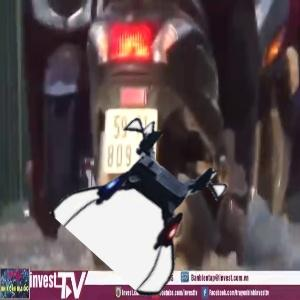drone: (73, 127, 222, 276)
